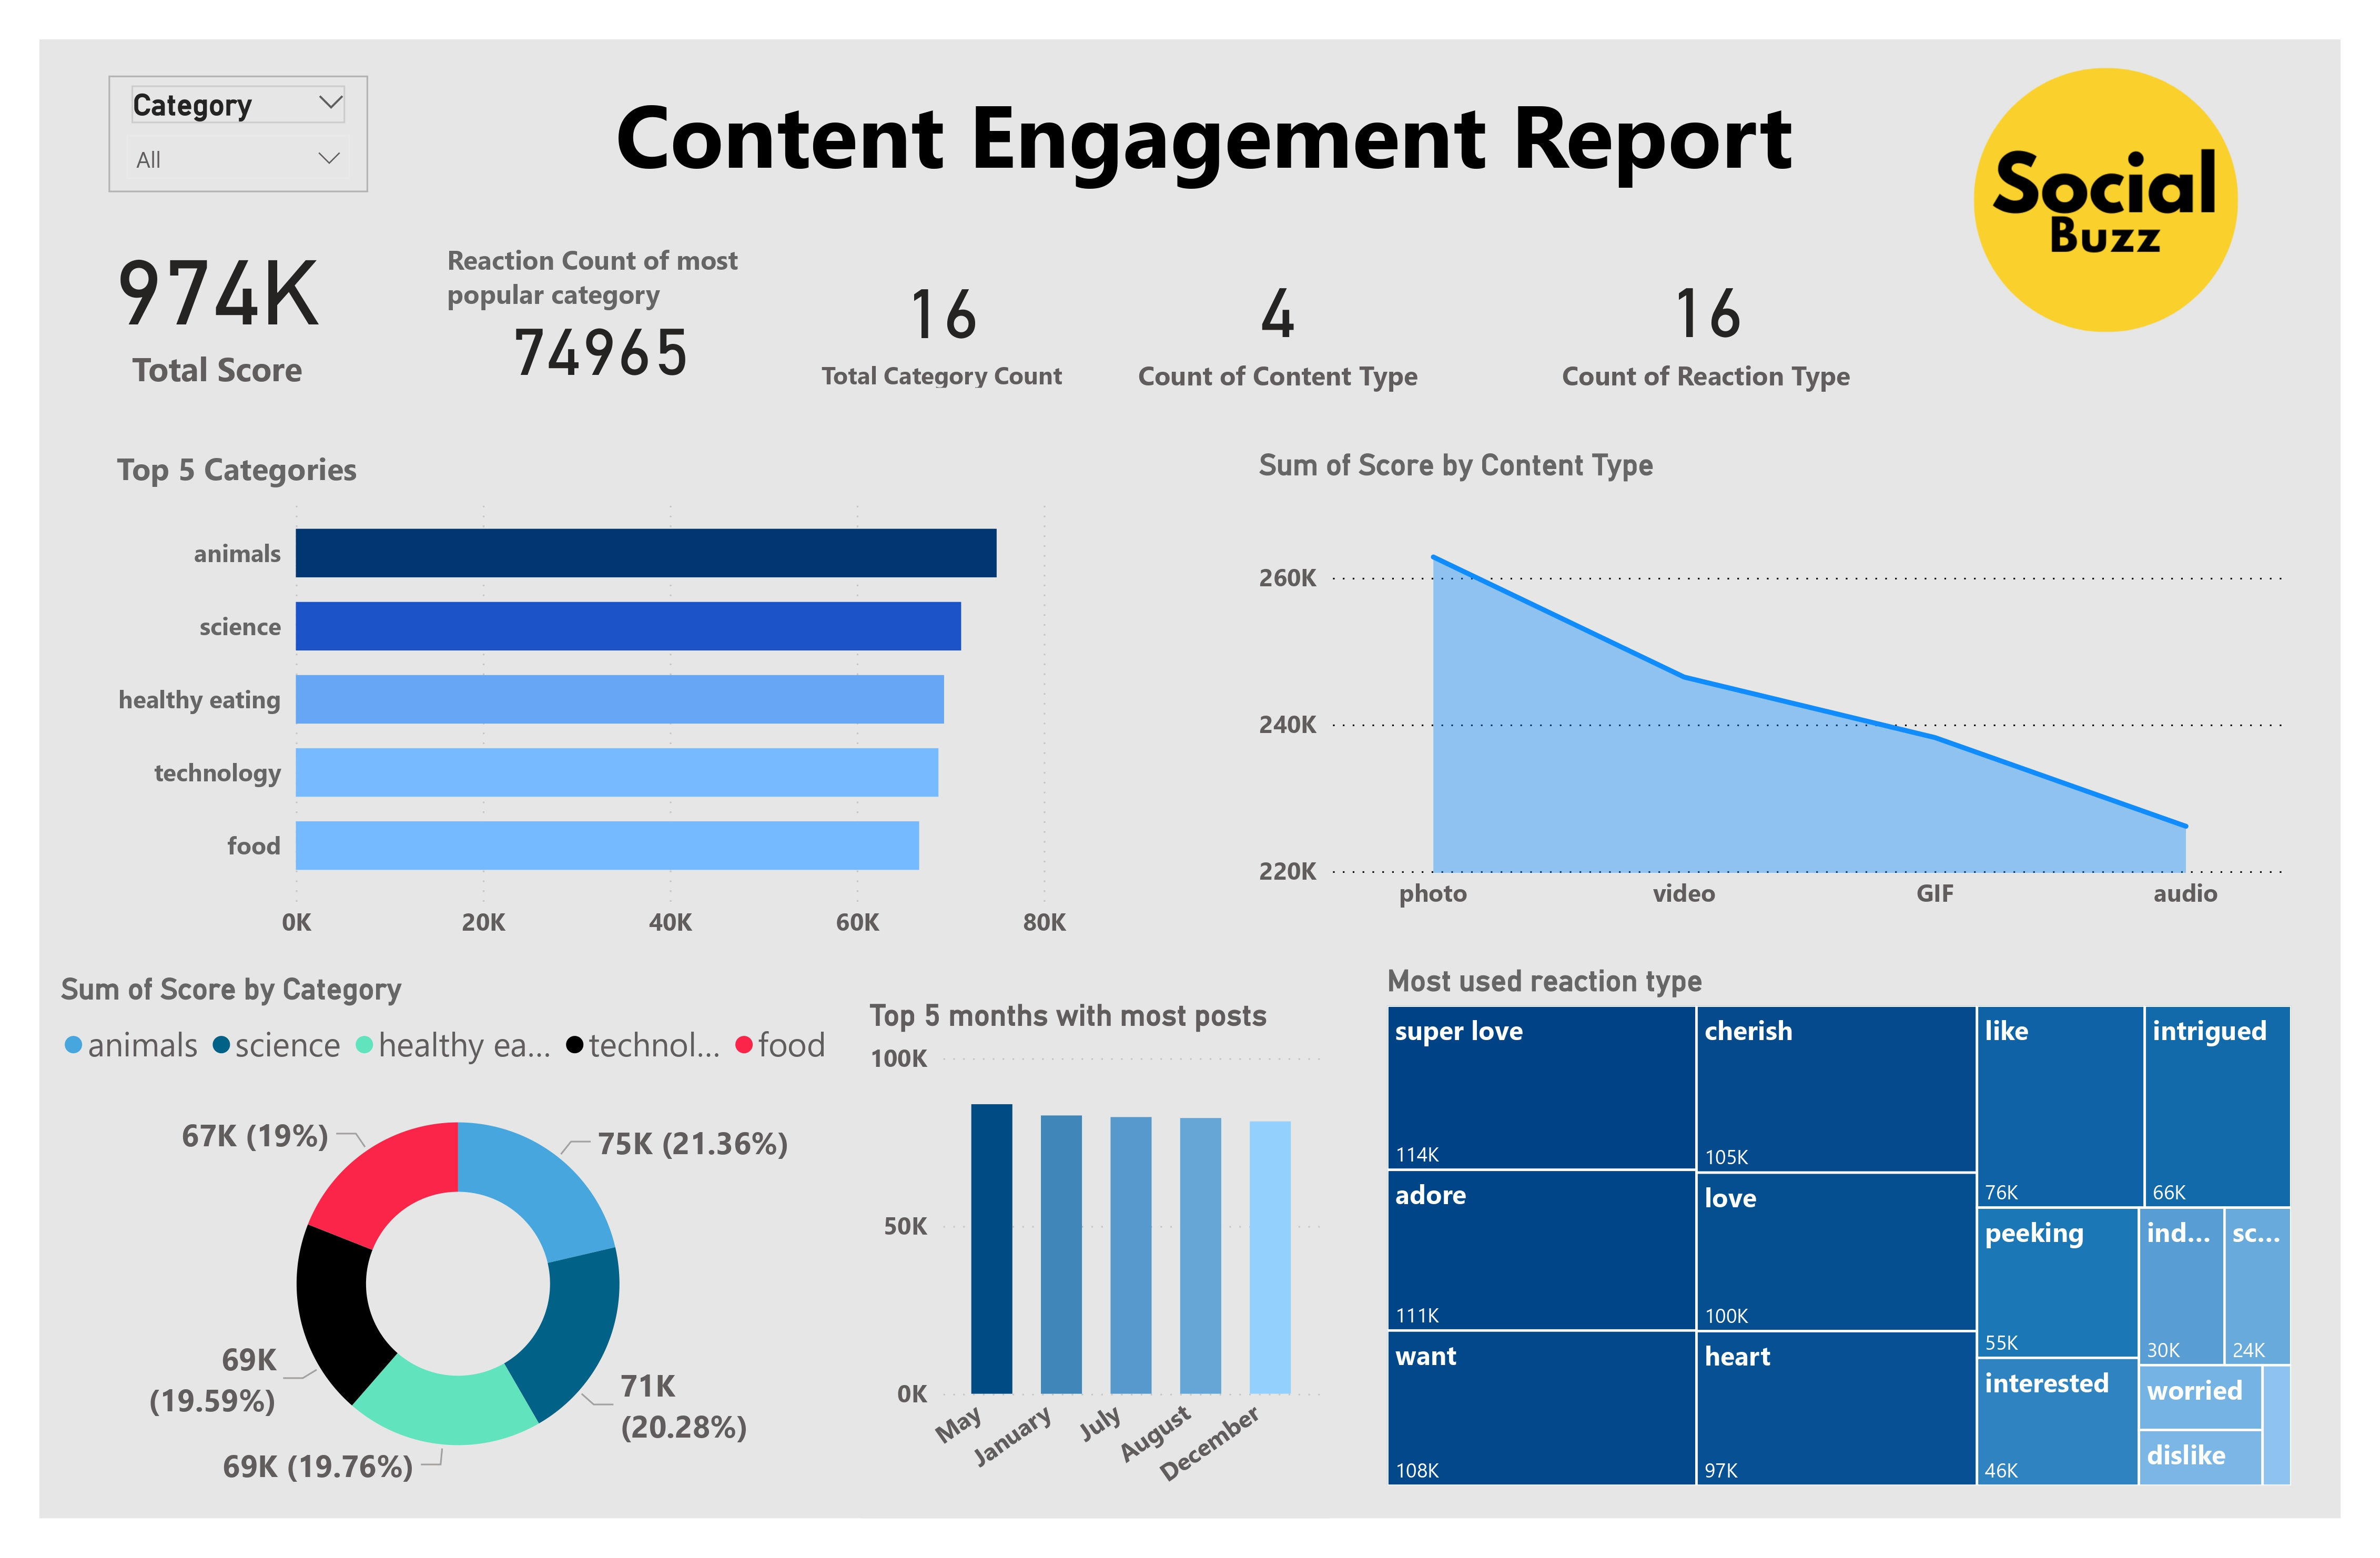

This screenshot's page, from the dashboard's own definition file:
{"tool":"powerbi","page":{"name":"DashBoard","canvas":[1400,900],"ordinal":0},"visuals":[{"type":"textbox","box":[321.7,15,773.3,85],"z":0},{"type":"clusteredBarChart","title":"Top 5 Categories","fields":{"Category":["Task 3_Final Content Data set.Category"],"Y":["Sum(Task 3_Final Content Data set.Score)"]},"box":[41.7,248.3,588.3,310],"z":1000},{"type":"card","title":"Score","fields":{"Values":["Sum(Task 3_Final Content Data set.Score)"]},"box":[8.3,101.7,200,116.7],"z":2000},{"type":"slicer","fields":{"Values":["Task 3_Final Content Data set.Category"]},"box":[41.7,21.7,158.3,71.7],"z":3000},{"type":"donutChart","fields":{"Category":["Task 3_Final Content Data set.Category"],"Y":["Sum(Task 3_Final Content Data set.Score)"]},"box":[8.3,566.7,493.3,323.3],"z":4000},{"type":"card","fields":{"Values":["Count(Task 3_Final Content Data set.Category)"]},"box":[468.3,128.3,161.7,88.3],"z":5000},{"type":"treemap","title":"Most used reaction type","fields":{"Group":["Task 3_Final Content Data set.Reaction Type"],"Values":["Sum(Task 3_Final Content Data set.Score)"]},"box":[815,561.7,560,323.3],"z":6000},{"type":"areaChart","fields":{"Category":["Task 3_Final Content Data set.Content Type"],"Y":["Sum(Task 3_Final Content Data set.Score)"]},"box":[736.7,248.3,635,291.7],"z":7000},{"type":"card","fields":{"Values":["Count(Task 3_Final Content Data set.Content Type)"]},"box":[661.7,121.7,183.3,101.7],"z":8000},{"type":"card","fields":{"Values":["Count(Task 3_Final Content Data set.Reaction Type)"]},"box":[910,121.7,208.3,101.7],"z":9000},{"type":"clusteredColumnChart","title":"Top 5 months with most posts","fields":{"Category":["Task 3_Final Content Data set.Datetime.Variation.Date Hierarchy.Month"],"Y":["Sum(Task 3_Final Content Data set.Score)"]},"box":[500,583.3,285,316.7],"z":10000},{"type":"image","box":[1143.3,0,228.3,195],"z":11000},{"type":"kpi","title":"Reaction Count of most popular category","fields":{"TrendLine":["Task 3_Final Content Data set.Category"],"Indicator":["Sum(Task 3_Final Content Data set.Score)"]},"box":[243.3,123.3,196.7,100],"z":12000}]}

Visuals, with their boxes in screenshot pixels (x1, y1, x2, y2):
textbox: [568, 64, 1839, 204]
"Top 5 Categories" clusteredBarChart: [108, 447, 1075, 957]
"Score" card: [53, 207, 382, 399]
slicer - Task 3_Final Content Data set.Category: [108, 75, 368, 193]
donutChart - Task 3_Final Content Data set.Category x Sum(Task 3_Final Content Data set.Score): [53, 971, 864, 1502]
card - Count(Task 3_Final Content Data set.Category): [809, 250, 1075, 395]
"Most used reaction type" treemap: [1379, 963, 2300, 1494]
areaChart - Task 3_Final Content Data set.Content Type x Sum(Task 3_Final Content Data set.Score): [1250, 447, 2294, 927]
card - Count(Task 3_Final Content Data set.Content Type): [1127, 239, 1429, 406]
card - Count(Task 3_Final Content Data set.Reaction Type): [1535, 239, 1878, 406]
"Top 5 months with most posts" clusteredColumnChart: [862, 998, 1330, 1519]
image: [1919, 39, 2294, 360]
"Reaction Count of most popular category" kpi: [439, 242, 763, 406]
